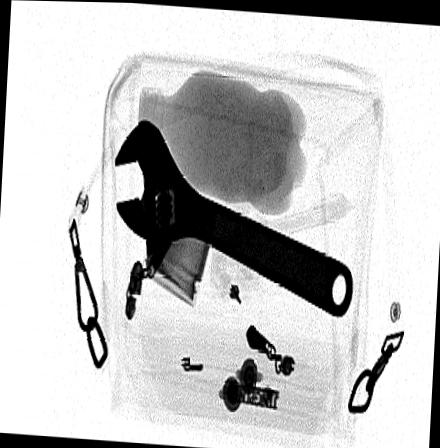Wrench: (113, 116, 354, 316)
